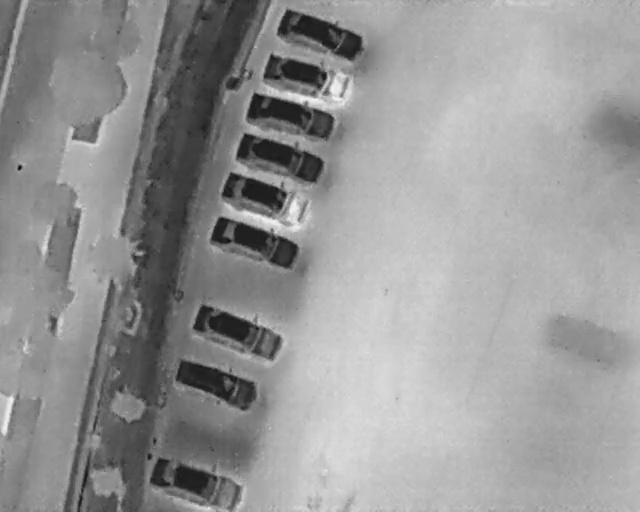Car: (185, 295, 289, 366), (214, 163, 317, 233), (204, 208, 305, 277), (229, 125, 331, 193), (142, 453, 260, 511), (162, 353, 263, 416), (256, 46, 357, 108), (241, 88, 344, 148), (273, 2, 369, 66)
